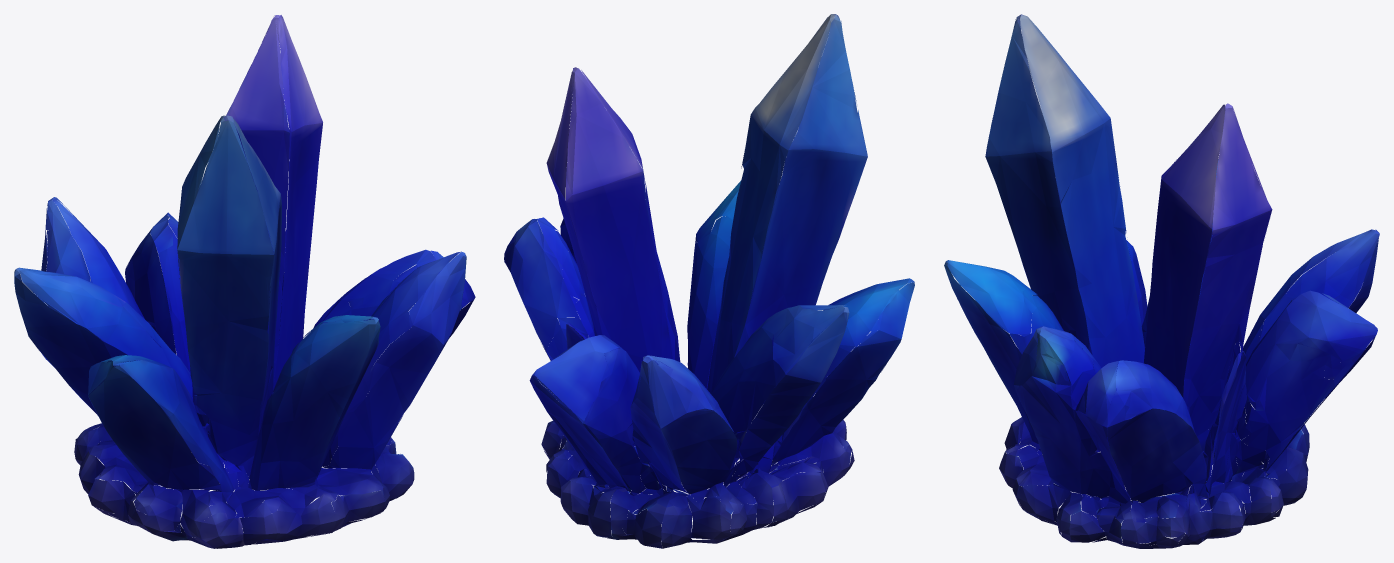
The model's file is phale.glb.
3 views of the same model, side by side, from view 1: azimuth 30°, elevation 25°; view 2: azimuth 150°, elevation 25°; view 3: azimuth 270°, elevation 25° (orthographic). The views are drawn at different scales.
Visible parts, largest first — view 1: world; view 2: world; view 3: world.
Boxes of the visible parts, x1,y1,x2,y2 form: world: (14, 15, 475, 548); world: (504, 14, 914, 548); world: (944, 14, 1379, 548).
Size of the model in its own units: 0.922 by 0.9972 by 0.8845.
Materials: 1 (1 with a texture image).
